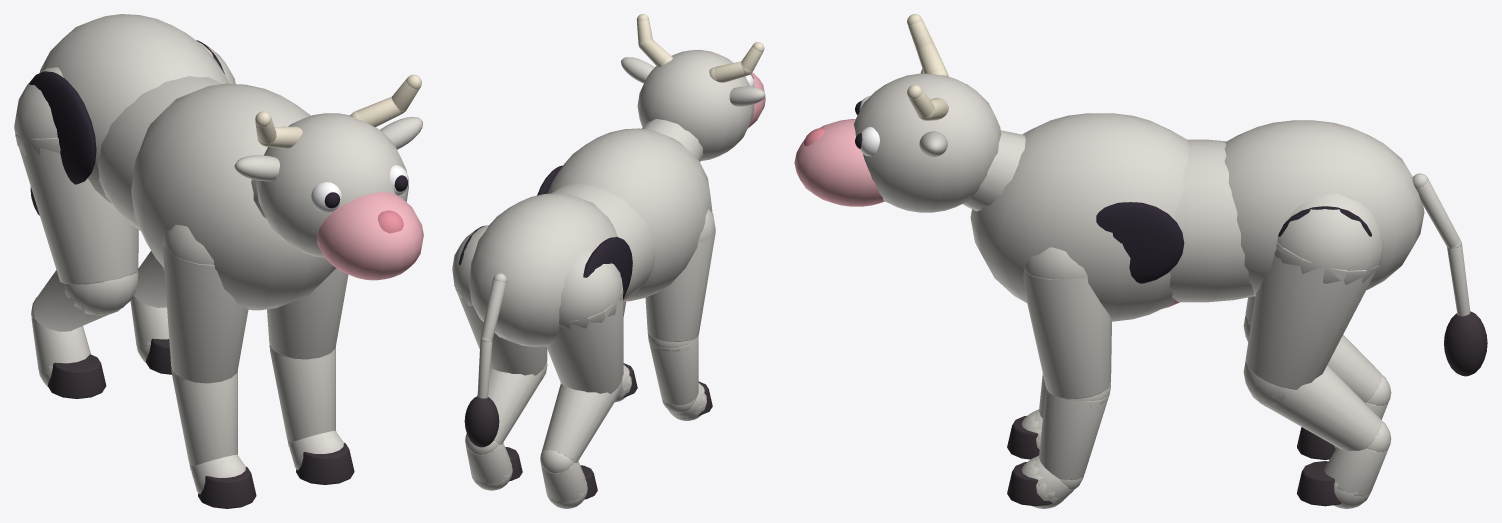
The model's file is cow.glb.
3 views of the same model, side by side, from view 1: azimuth 30°, elevation 25°; view 2: azimuth 150°, elevation 25°; view 3: azimuth 270°, elevation 25° (orthographic). The views are drawn at different scales.
Visible parts, largest first — view 1: cow; view 2: cow; view 3: cow.
Boxes of the visible parts, left/top/right/bottom form: cow: left=14, top=14, right=423, bottom=508; cow: left=452, top=14, right=765, bottom=508; cow: left=794, top=14, right=1487, bottom=508.
Bounding box in the file's own units: 1.02 × 2.1 × 3.05.
